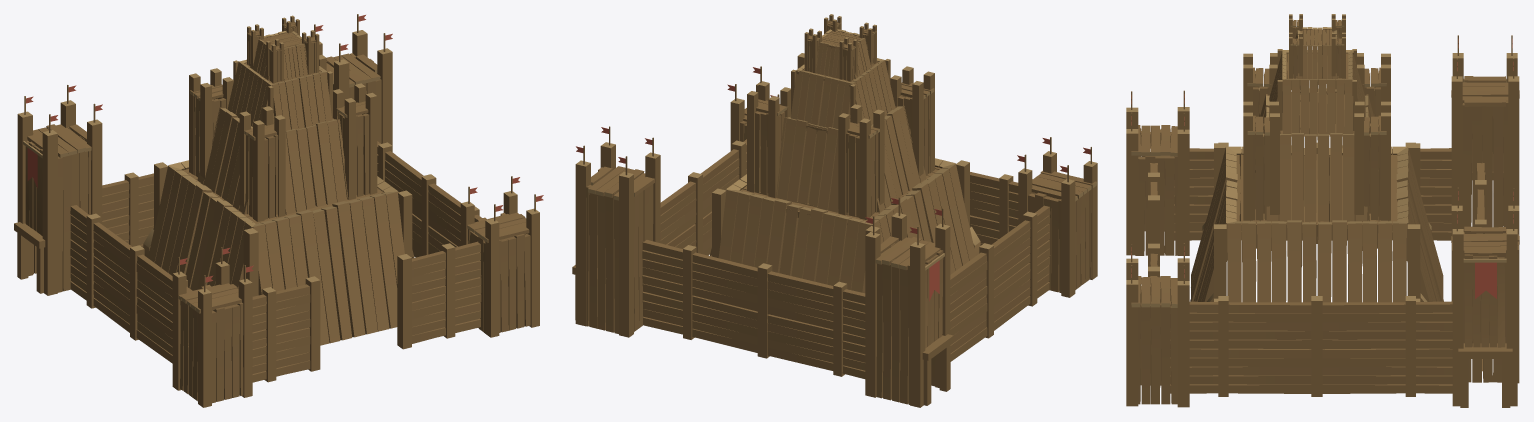
Rendered from quaternius-real-time-strategy-wonder-first-age-level-3.glb.
The picture shows the model from 3 angles, left to right: view 1: azimuth 30°, elevation 25°; view 2: azimuth 150°, elevation 25°; view 3: azimuth 270°, elevation 25°; orthographic projection. The views are drawn at different scales.
Visible parts, largest first — view 1: Wonder_FirstAge_Level3; view 2: Wonder_FirstAge_Level3; view 3: Wonder_FirstAge_Level3.
Part boxes in pixels (x1,y1,x2,y2): Wonder_FirstAge_Level3: [14, 14, 543, 407]; Wonder_FirstAge_Level3: [572, 14, 1097, 407]; Wonder_FirstAge_Level3: [1126, 14, 1519, 407].
Size of the model in its own units: 2.2 by 1.6 by 1.95.
